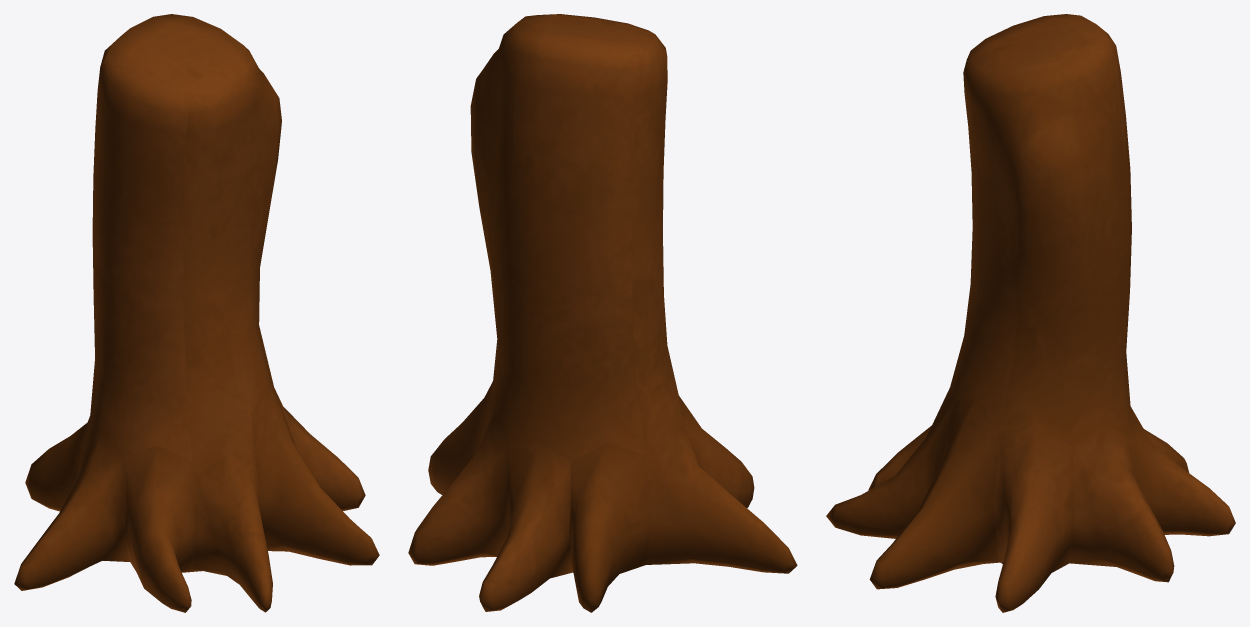
File: agac_2.fbx
The picture shows the model from 3 angles, left to right: view 1: azimuth 30°, elevation 25°; view 2: azimuth 150°, elevation 25°; view 3: azimuth 270°, elevation 25°; orthographic projection. The views are drawn at different scales.
Parts seen in each view (by area): view 1: agac_2; view 2: agac_2; view 3: agac_2.
Boxes of the visible parts, x1=… form: agac_2: x1=14, y1=14, x2=379, y2=612; agac_2: x1=408, y1=14, x2=797, y2=612; agac_2: x1=826, y1=14, x2=1235, y2=612.
Bounding box in the file's own units: 136 × 186 × 136.
Materials: 1 (1 with a texture image).
